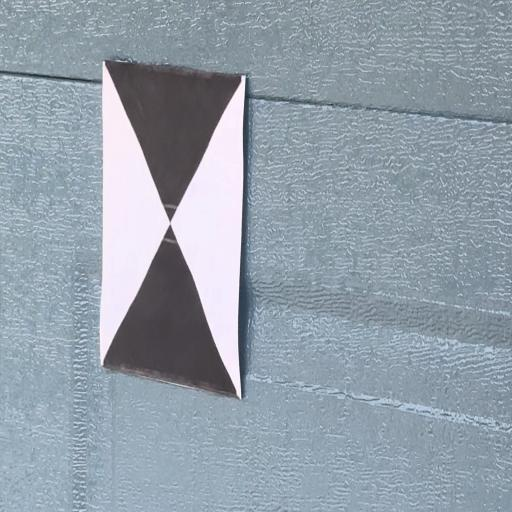target: (100, 60, 246, 403)
